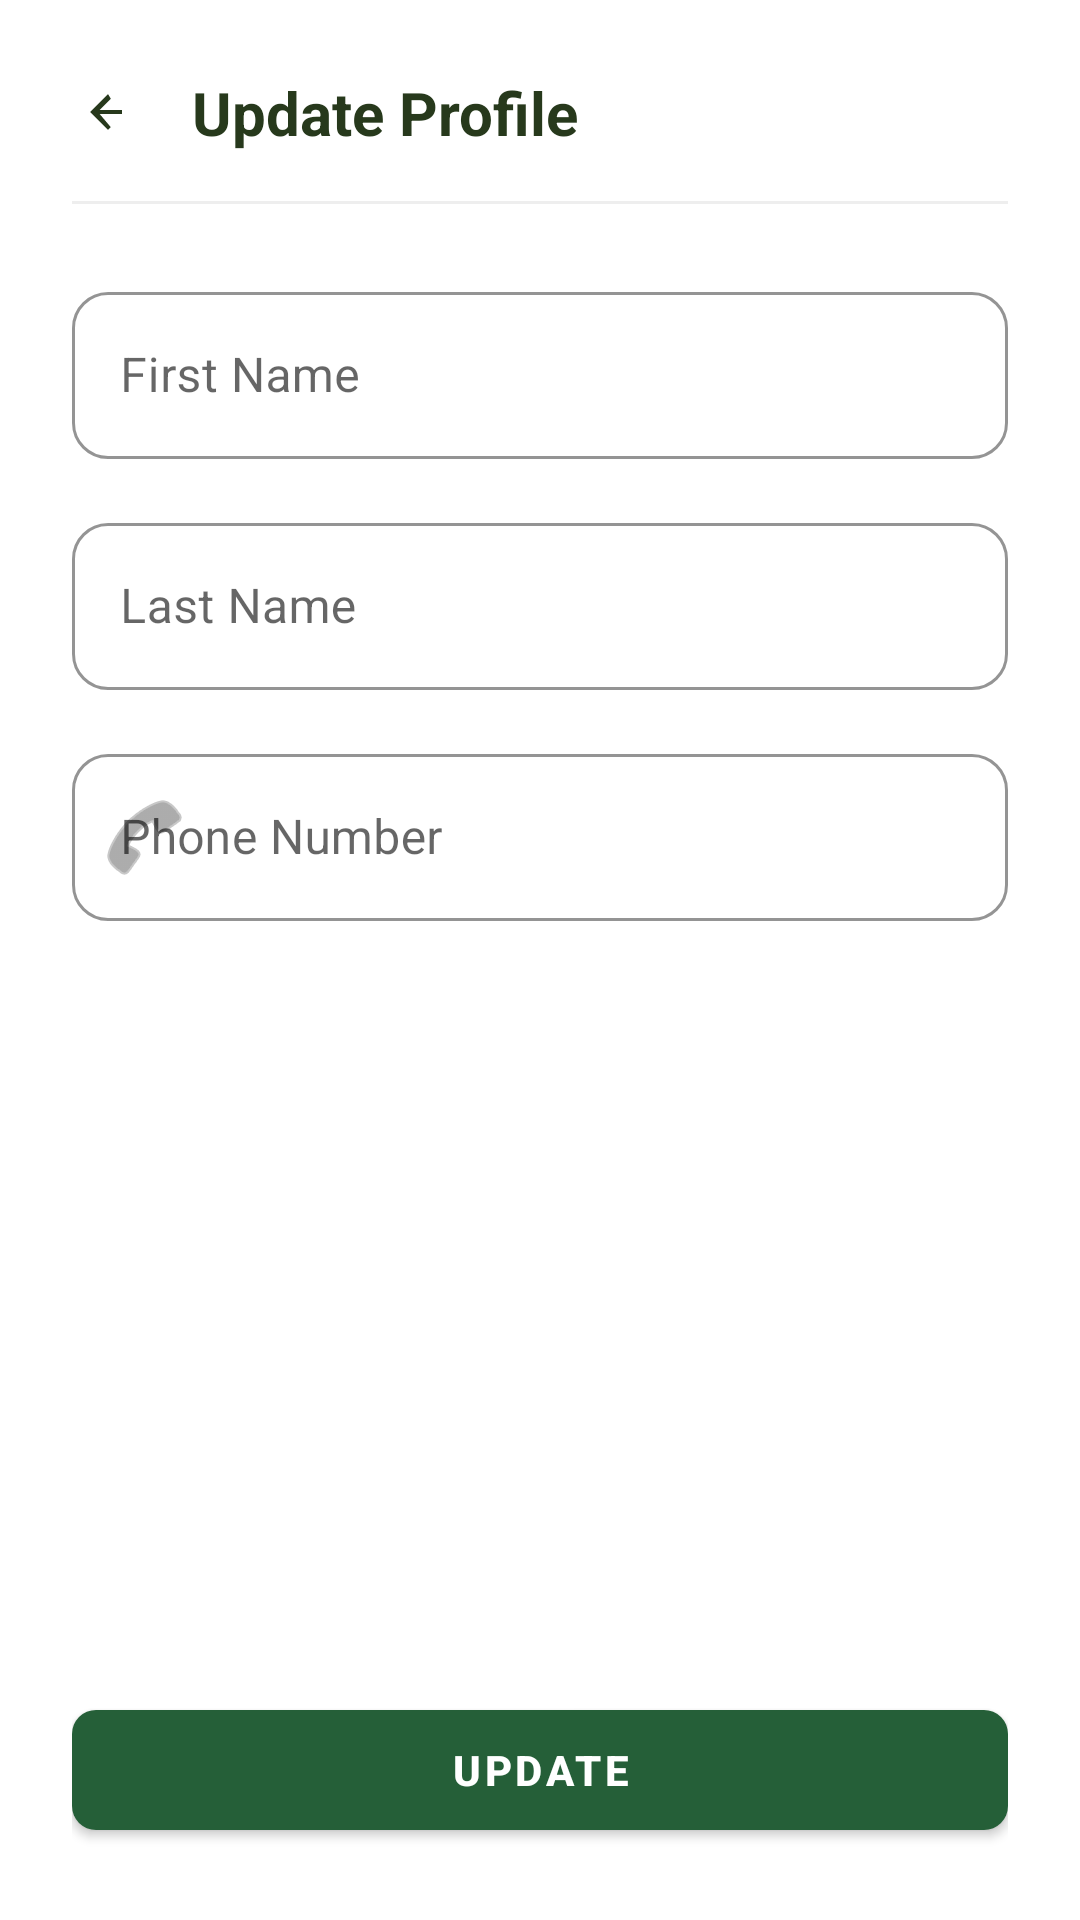

Named icons in this screenshot (1080px×1920px) and their centers, point (x, y):
Back: point (106, 112)
